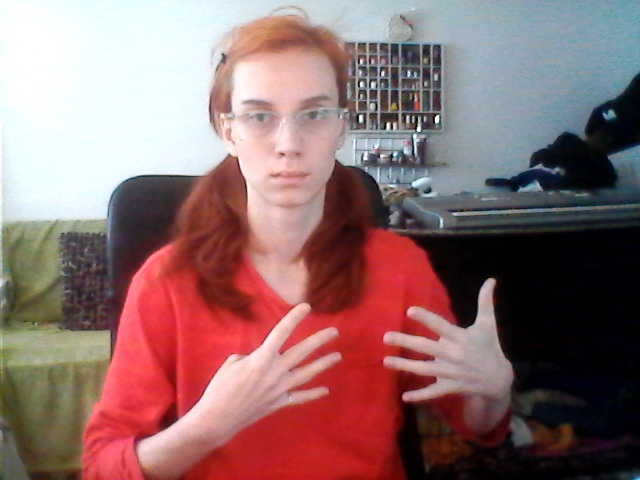devat: (209, 272, 515, 421)
